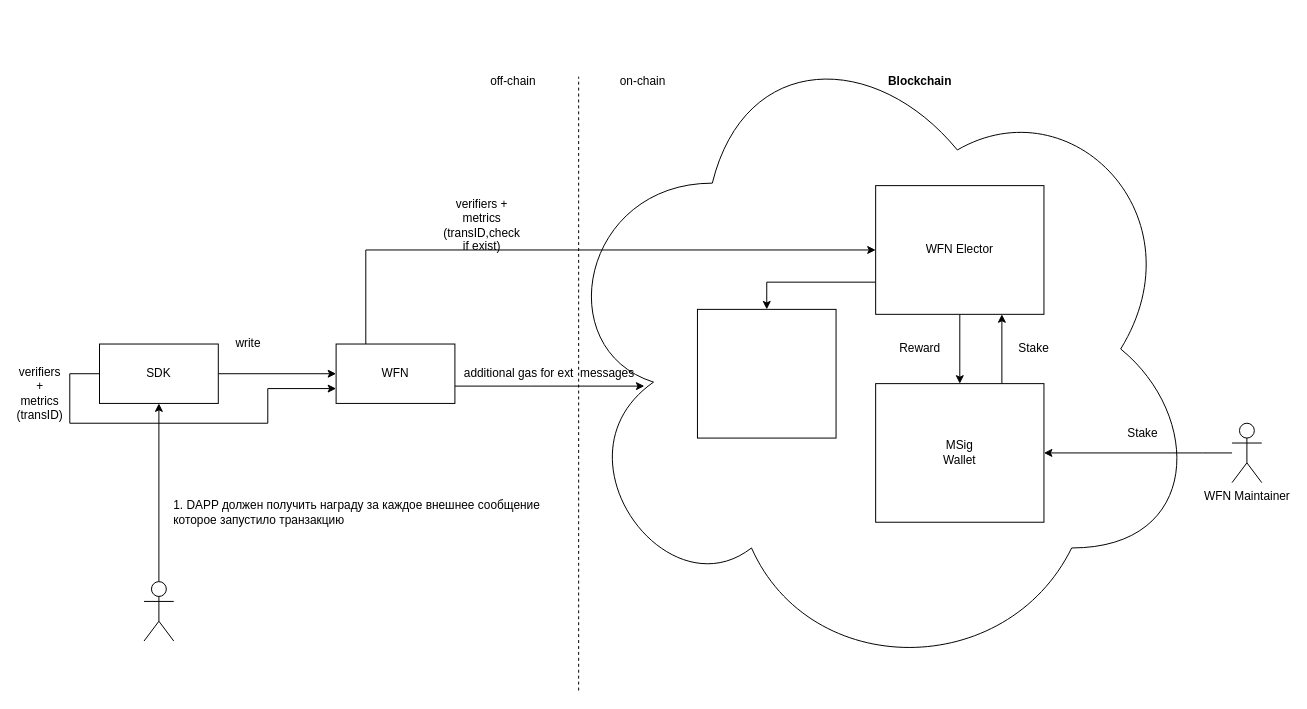
Image size: 1307x709. Some labels were removed from this diagram. Here are the shapes that lost their labels. From the top down, the centre of each, then its label:
At point 766,373: "WFN Endpoints list".
At point 158,611: "Clients".
